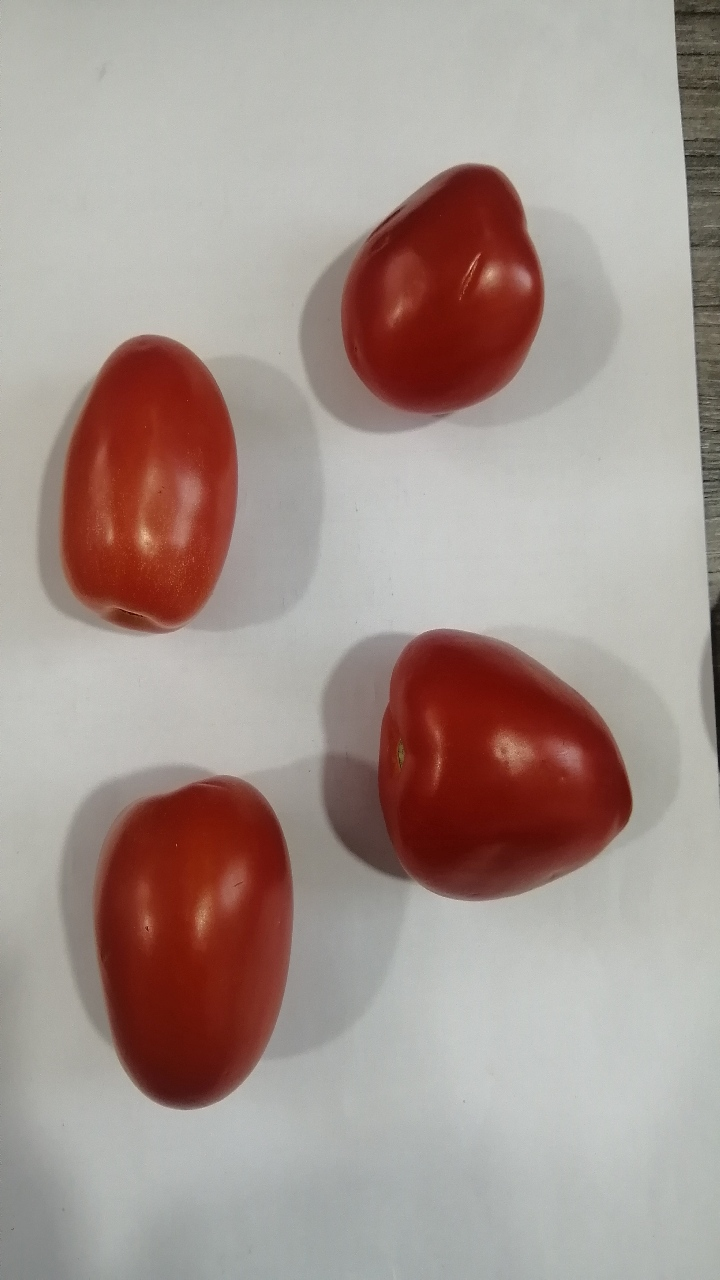tomateRojo: (64, 746, 337, 1145), (349, 611, 654, 931), (29, 302, 284, 654), (306, 132, 574, 446)
